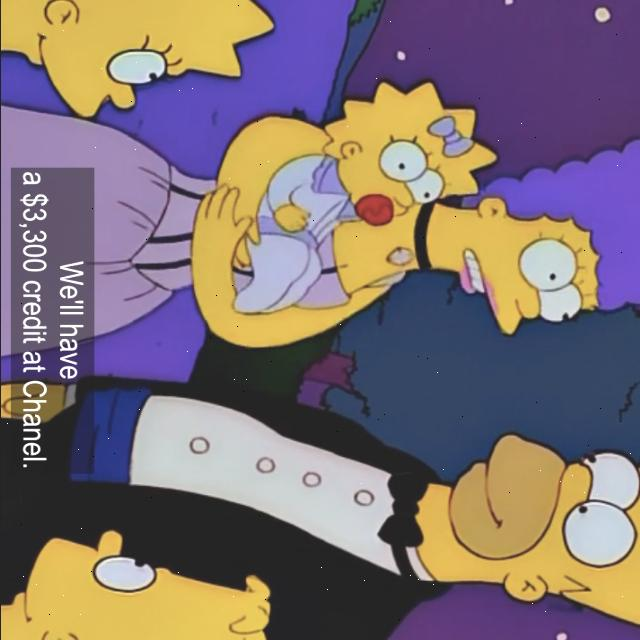Bart Simpson: (0, 527, 274, 640)
Homer Simpson: (402, 432, 640, 628)
Lisa Simpson: (1, 0, 280, 123)
Maggie Simpson: (318, 78, 501, 230)
Marge Simpson: (422, 137, 640, 338)
